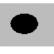correct: (8, 12, 39, 36)
